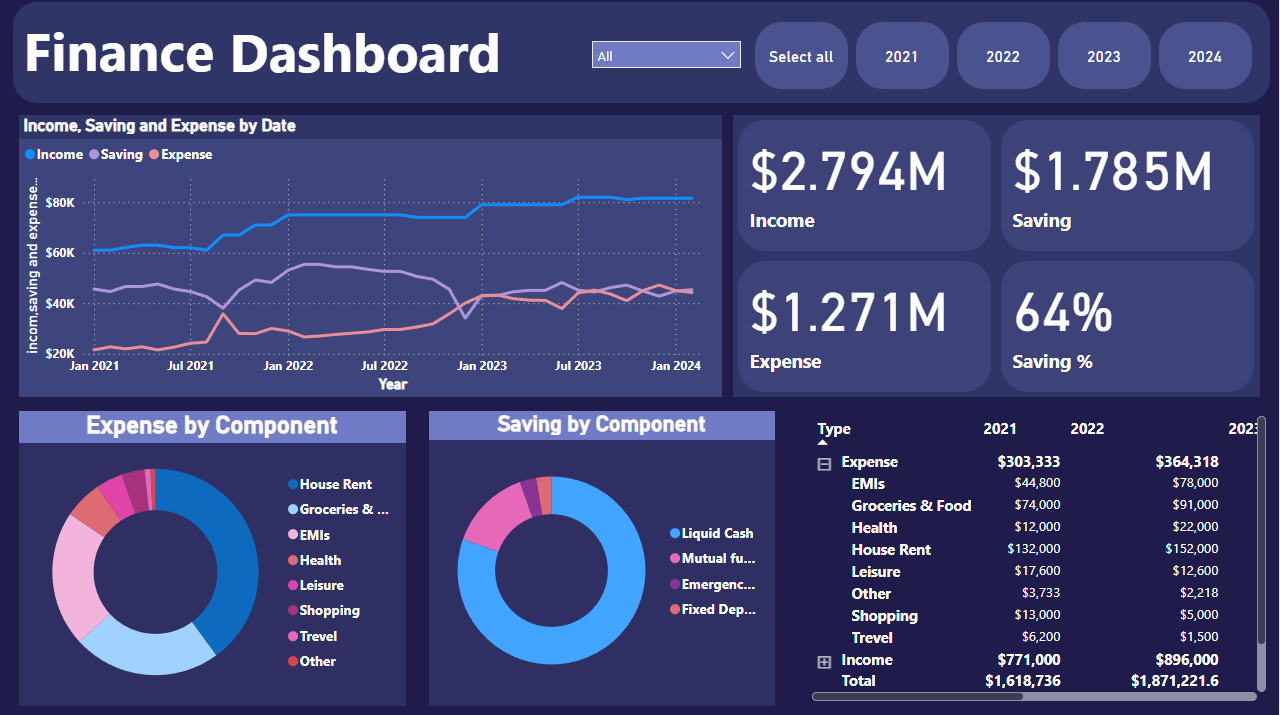

What the dashboard file says about the page in this screenshot:
{"tool":"powerbi","page":{"name":"Page 1","canvas":[1280,720],"ordinal":0},"visuals":[{"type":"cardVisual","fields":{"Data":["FinData.Income","FinData.Saving","FinData.Expense","FinData.Saving %"]},"box":[734.4,117.8,526.7,282.2],"z":0},{"type":"donutChart","title":"Expense by Component","fields":{"Category":["FinData.Component"],"Y":["FinData.Expense"]},"box":[20,414.4,386.7,294.4],"z":1000},{"type":"shape","box":[13.3,4.4,1258.9,102.2],"z":2000},{"type":"advancedSlicerVisual","fields":{"Values":["FinData.Year"]},"box":[751.1,20,510,76.7],"z":3000},{"type":"slicer","fields":{"Values":["FinData.Mon/Y"]},"box":[583.3,34.4,168.9,53.3],"z":4000},{"type":"donutChart","fields":{"Y":["FinData.Saving"],"Category":["FinData.Component"]},"box":[430,414.4,345.6,294.4],"z":5000},{"type":"pivotTable","fields":{"Values":["FinData.Total Value"],"Rows":["FinData.Type","FinData.Component"],"Columns":["FinData.Year"]},"box":[807.8,414.4,464.4,294.4],"z":6000},{"type":"lineChart","title":"Income, Saving and Expense by Date","fields":{"Y":["FinData.Income","FinData.Saving","FinData.Expense"],"Category":["FinData.Date.Variation.Date Hierarchy.Year","FinData.Date.Variation.Date Hierarchy.Quarter","FinData.Date.Variation.Date Hierarchy.Month","FinData.Date.Variation.Date Hierarchy.Day"]},"box":[20,117.8,703.3,282.2],"z":7000},{"type":"textbox","box":[20,8.9,238.9,92.2],"z":8000},{"type":"textbox","box":[225.6,12.2,310,85.6],"z":9000}]}

Visuals, with their boxes in screenshot pixels (x1, y1, x2, y2), scaled from the page's 1280x720 canvas onto the 1280x715 screenshot:
cardVisual - FinData.Income x FinData.Saving: [left=734, top=117, right=1261, bottom=397]
"Expense by Component" donutChart: [left=20, top=412, right=407, bottom=704]
shape: [left=13, top=4, right=1272, bottom=106]
advancedSlicerVisual - FinData.Year: [left=751, top=20, right=1261, bottom=96]
slicer - FinData.Mon/Y: [left=583, top=34, right=752, bottom=87]
donutChart - FinData.Saving x FinData.Component: [left=430, top=412, right=776, bottom=704]
pivotTable - FinData.Total Value x FinData.Type: [left=808, top=412, right=1272, bottom=704]
"Income, Saving and Expense by Date" lineChart: [left=20, top=117, right=723, bottom=397]
textbox: [left=20, top=9, right=259, bottom=100]
textbox: [left=226, top=12, right=536, bottom=97]
